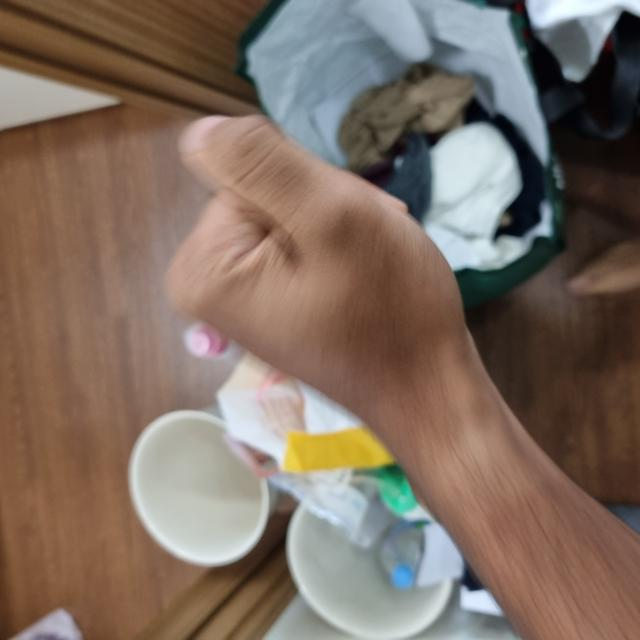Rock: (213, 170, 528, 463)
